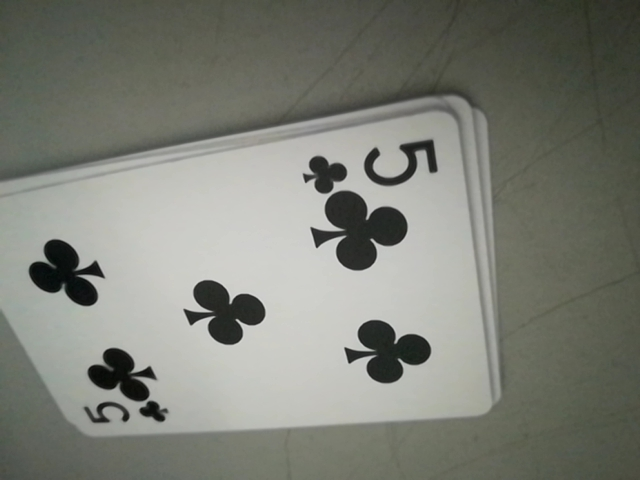mh 5: (296, 130, 447, 194), (77, 395, 175, 433)
